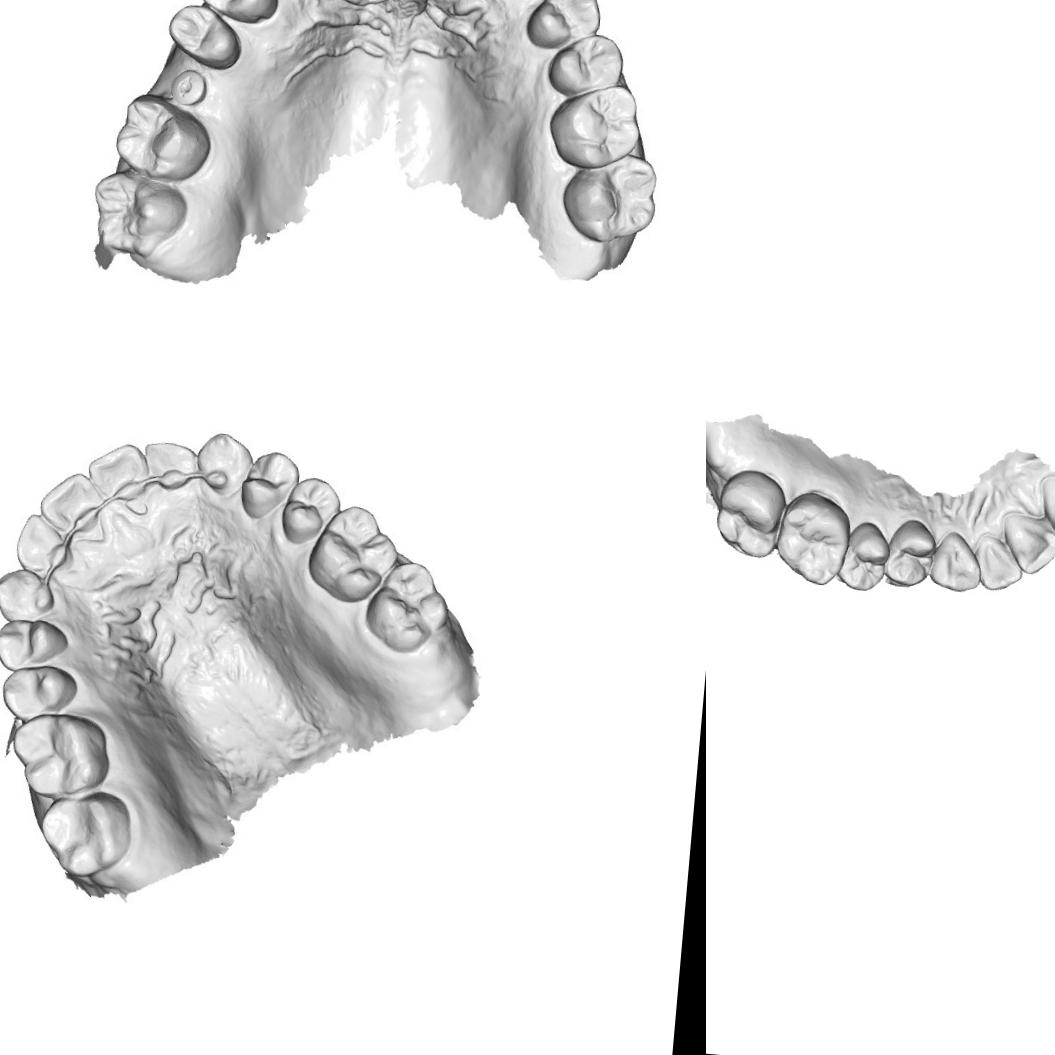canine: (924, 528, 984, 595), (196, 430, 250, 492), (0, 564, 54, 624)
implant_minus: (167, 61, 210, 110)
incisor: (84, 439, 146, 503), (1002, 513, 1055, 577), (40, 472, 98, 528), (14, 512, 68, 570), (142, 436, 200, 489), (976, 538, 1025, 595), (1037, 471, 1055, 545)
molar: (554, 147, 662, 248), (109, 90, 216, 188), (543, 76, 647, 174), (85, 167, 189, 260), (5, 710, 110, 800), (34, 788, 134, 879), (359, 554, 454, 645), (771, 486, 854, 588), (308, 504, 398, 593), (711, 465, 788, 559)
premolar: (544, 28, 628, 102), (162, 0, 244, 72), (835, 516, 892, 596), (523, 0, 604, 54), (881, 514, 937, 592), (0, 666, 77, 722), (238, 450, 299, 518), (282, 475, 340, 536), (0, 618, 65, 671), (193, 0, 284, 28)
